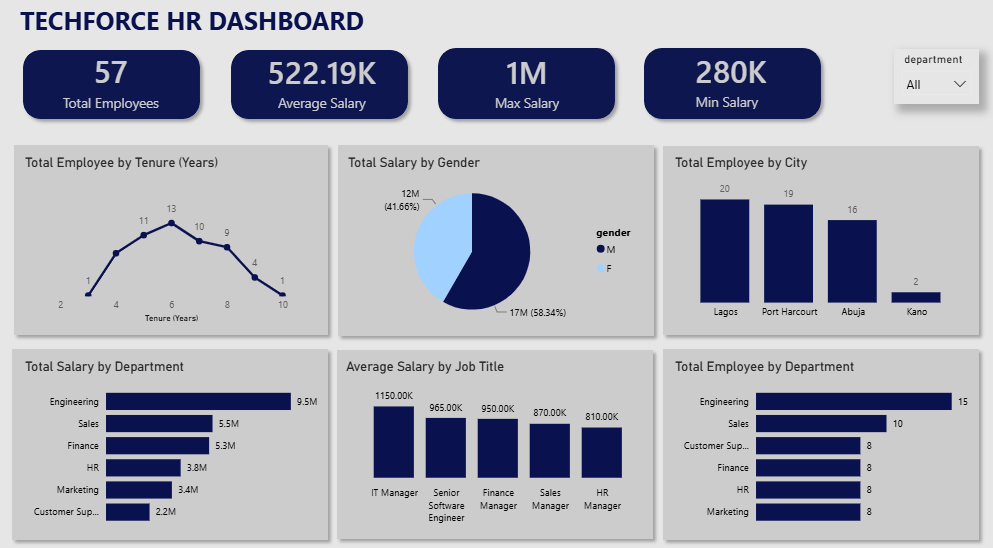

This screenshot's page, from the dashboard's own definition file:
{"tool":"powerbi","page":{"name":"Page 1","canvas":[1280,720],"ordinal":0},"visuals":[{"type":"shape","box":[0,1.7,1280,719],"z":0},{"type":"shape","box":[21.8,58,244.9,106.4],"z":1000},{"type":"cardVisual","title":"Total employee","fields":{"Data":["CountNonNull(techforce_employee_table.employee_id)"]},"box":[51.3,43.6,184.6,124.4],"z":2000},{"type":"shape","box":[288.1,57.7,244.9,106.4],"z":3000},{"type":"cardVisual","fields":{"Data":["Avg(techforce_employee_table.salary)"]},"box":[312.8,50,202.6,112.8],"z":4000},{"type":"shape","box":[553.8,55.1,244.9,109],"z":5000},{"type":"shape","box":[817.9,55.1,244.9,109],"z":6000},{"type":"cardVisual","fields":{"Data":["Max(techforce_employee_table.salary)"]},"box":[601.3,48.7,151.3,114.1],"z":7000},{"type":"cardVisual","fields":{"Data":["Min(techforce_employee_table.salary)"]},"box":[864.1,51.3,152.6,109],"z":8000},{"type":"shape","box":[10.3,179.5,420.5,261.5],"z":9000},{"type":"lineChart","title":"Total Employee by Tenure (Years)","fields":{"Y":["CountNonNull(techforce_employee_table.employee_id)"],"Category":["techforce_employee_table.Tenure (Years)"]},"box":[28.2,201.3,385.9,219.2],"z":10000},{"type":"shape","box":[424.4,442.3,423.1,260.3],"z":11000},{"type":"clusteredColumnChart","title":"Average Salary by Job Title","fields":{"Category":["techforce_employee_table.job_title"],"Y":["Avg(techforce_employee_table.salary)"]},"box":[439.7,462.8,392.3,219.2],"z":12000},{"type":"shape","box":[8,441,423.1,262.8],"z":13000},{"type":"clusteredBarChart","title":"Total Salary by Department","fields":{"Category":["techforce_employee_table.department"],"Y":["Sum(techforce_employee_table.salary)"]},"box":[28.2,462.8,385.9,224.4],"z":14000},{"type":"shape","box":[425.6,179.5,423.1,262.8],"z":15000},{"type":"shape","box":[842.6,441,423.1,262.8],"z":16000},{"type":"pieChart","title":"Total Salary by Gender","fields":{"Category":["techforce_employee_table.gender"],"Y":["Sum(techforce_employee_table.salary)"]},"box":[442.3,201.3,392.3,228.2],"z":17000},{"type":"clusteredBarChart","title":"Total Employee by Department","fields":{"Category":["techforce_employee_table.department"],"Y":["CountNonNull(techforce_employee_table.employee_id)"]},"box":[861.5,462.8,385.9,224.4],"z":18000},{"type":"shape","box":[842.3,180.8,423.1,260.3],"z":19000},{"type":"clusteredColumnChart","title":"Total Employee by City","fields":{"Category":["techforce_employee_table.city"],"Y":["CountNonNull(techforce_employee_table.employee_id)"]},"box":[861.5,201.3,385.9,219.2],"z":20000},{"type":"textbox","box":[21.8,1.3,453.8,64.1],"z":20501},{"type":"slicer","title":"Department","fields":{"Values":["techforce_employee_table.department"]},"box":[1147.4,65.4,109,70.5],"z":20502}]}

Visuals, with their boxes in screenshot pixels (x1, y1, x2, y2), scaled from the page's 1280x720 canvas onto the 993x548 screenshot:
shape: 0/1/992/547
shape: 17/44/207/125
"Total employee" cardVisual: 40/33/183/128
shape: 224/44/413/125
cardVisual - Avg(techforce_employee_table.salary): 243/38/400/124
shape: 430/42/620/125
shape: 635/42/825/125
cardVisual - Max(techforce_employee_table.salary): 466/37/584/124
cardVisual - Min(techforce_employee_table.salary): 670/39/789/122
shape: 8/137/334/336
"Total Employee by Tenure (Years)" lineChart: 22/153/321/320
shape: 329/337/657/535
"Average Salary by Job Title" clusteredColumnChart: 341/352/645/519
shape: 6/336/334/536
"Total Salary by Department" clusteredBarChart: 22/352/321/523
shape: 330/137/658/337
shape: 654/336/982/536
"Total Salary by Gender" pieChart: 343/153/647/327
"Total Employee by Department" clusteredBarChart: 668/352/968/523
shape: 653/138/982/336
"Total Employee by City" clusteredColumnChart: 668/153/968/320
textbox: 17/1/369/50
"Department" slicer: 890/50/975/103
